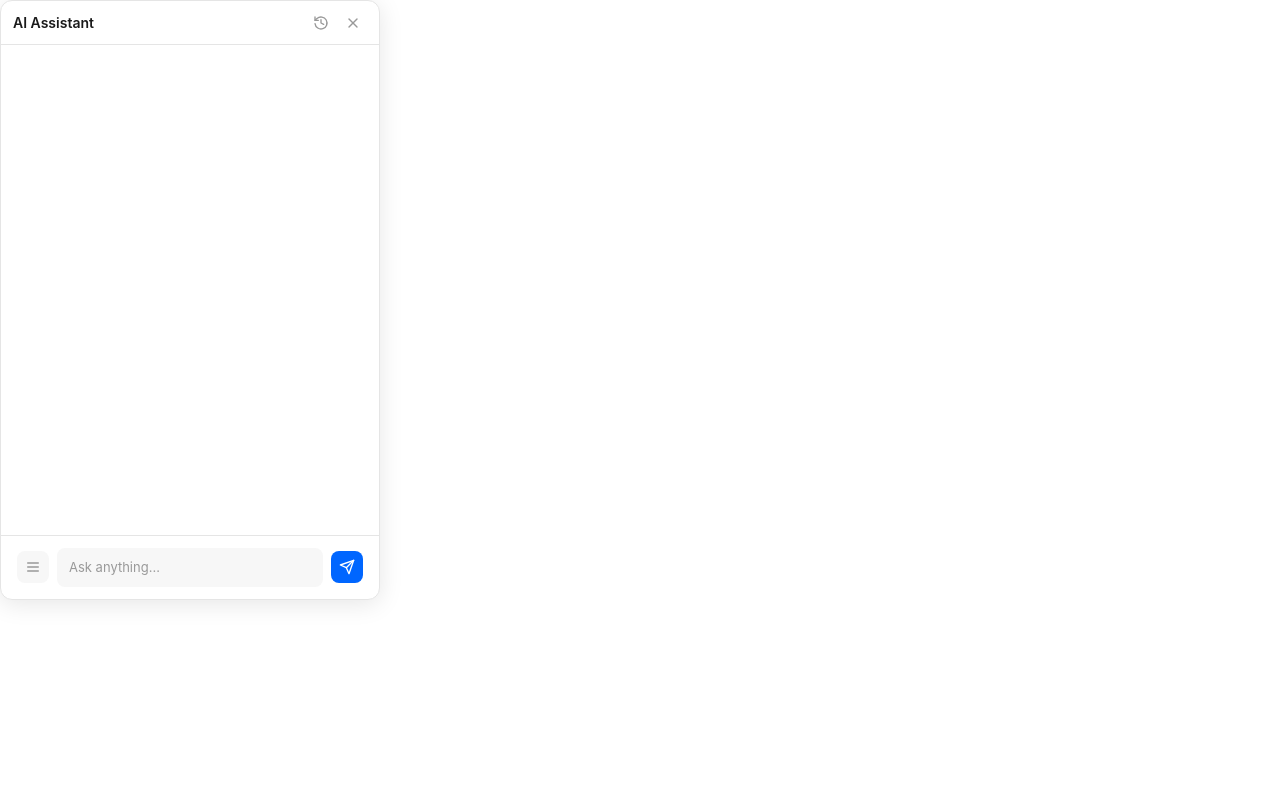
it: AIChatPanel › search › runs search when search tool is selected and message sent
Select search tool
Click the button with class "tool-btn": (33, 567) [17,551,49,583]
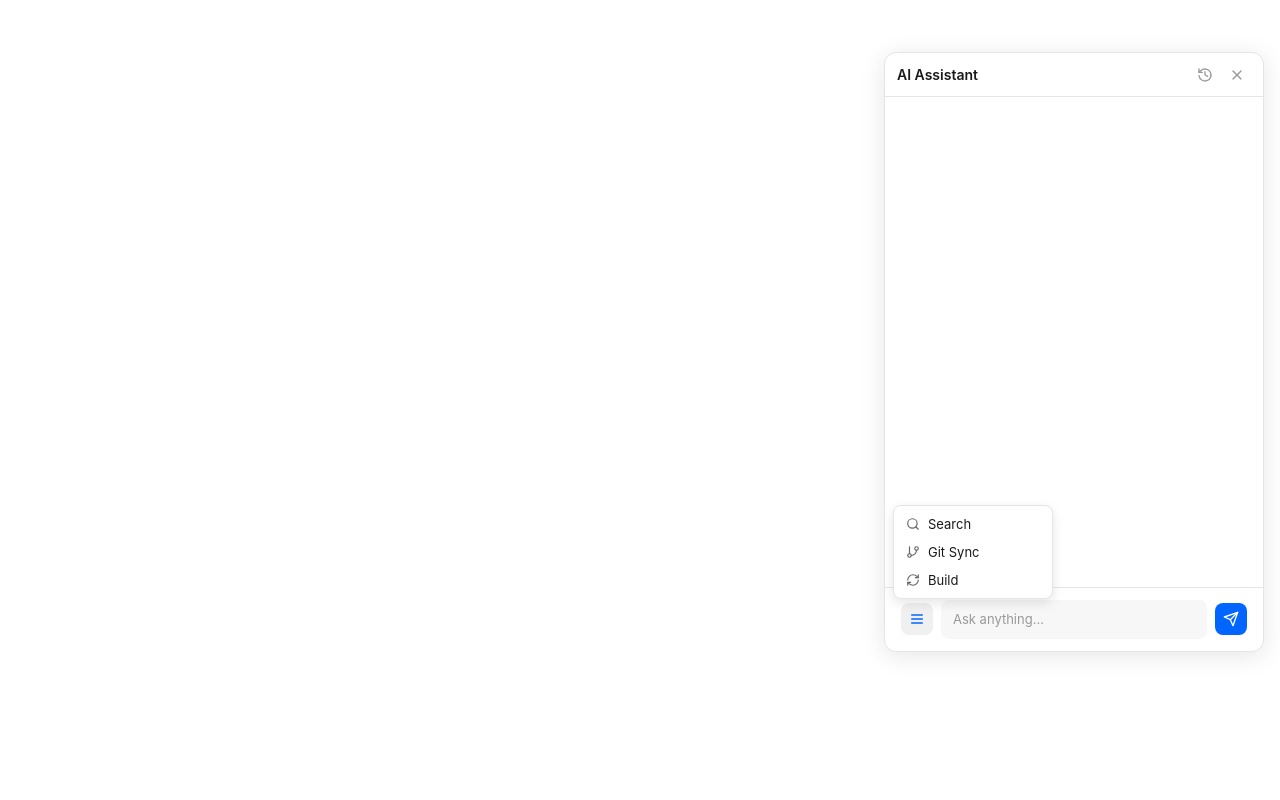
Click the button with class "tool-menu-item" showing "Search": (973, 524) [898,510,1048,538]
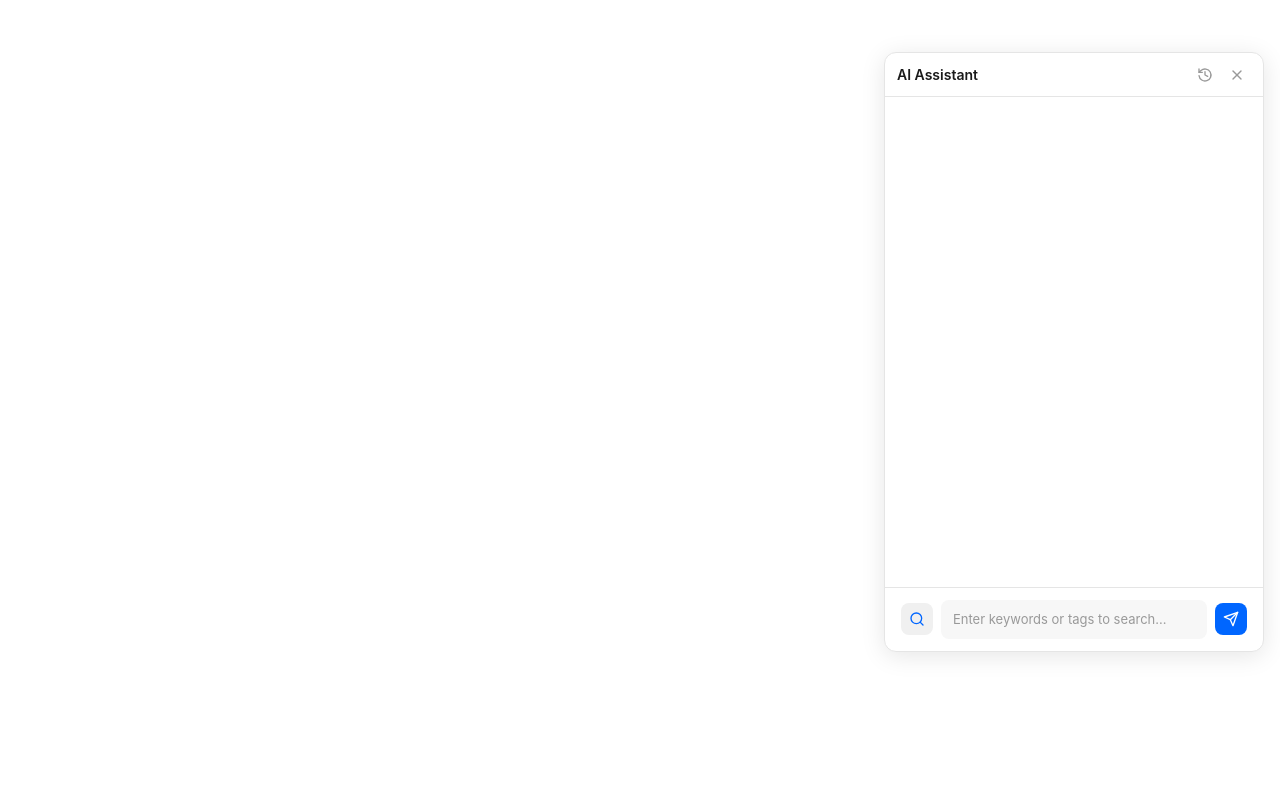
Type search query and send
In the text box with class "chat-input": (1074, 619) [941,600,1207,639], type "golang"
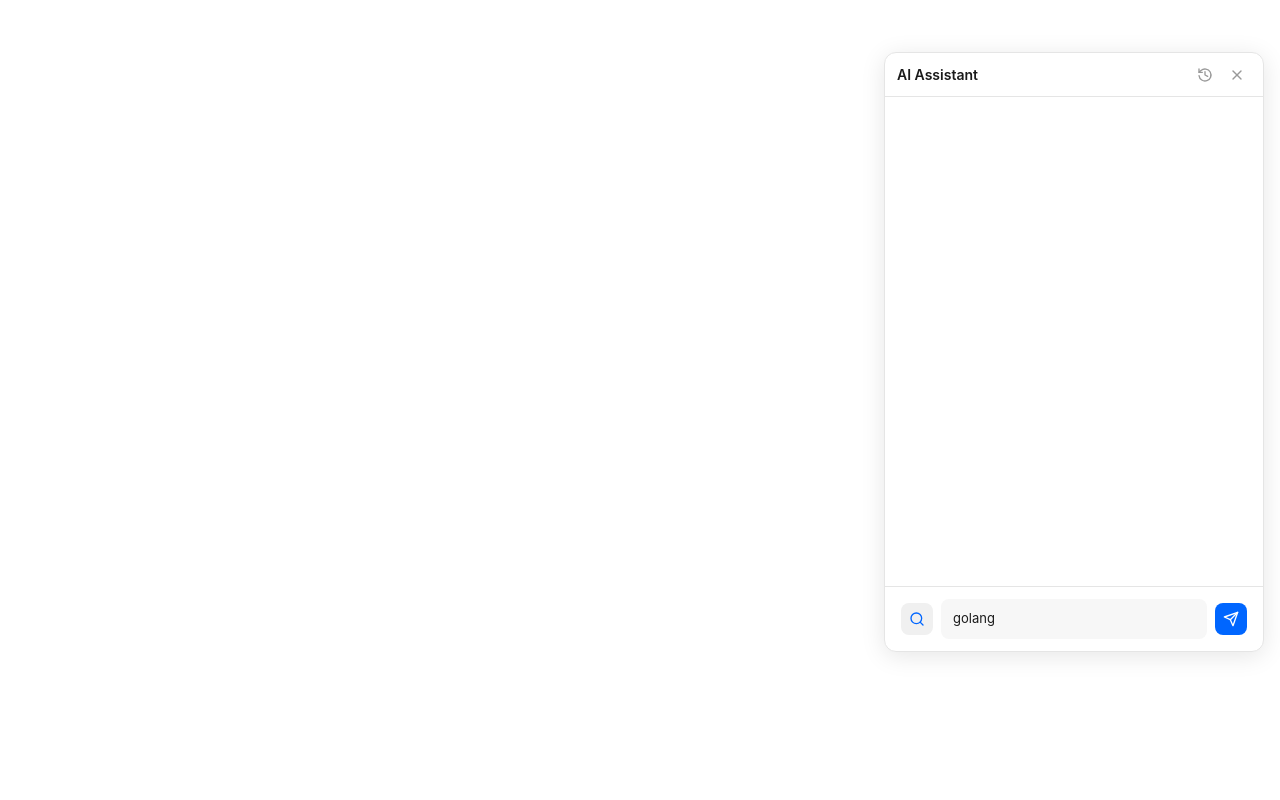
Click the button with class "send-btn": (1231, 619) [1215,603,1247,635]
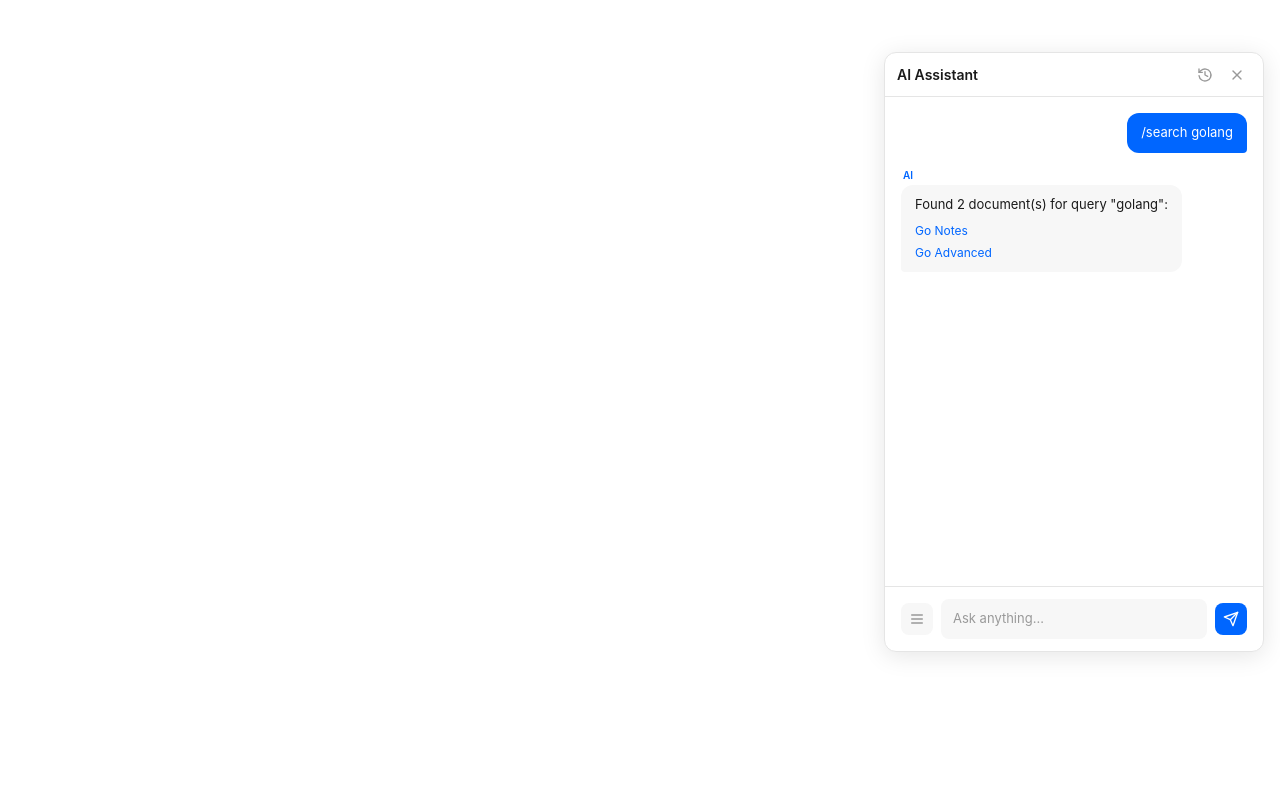
Now the number of elements with class "message" is 2, box [1127,113,1247,152]; [901,168,1182,272]
Now the element with class "bubble" shows "Found 2 document(s)", box [915,196,1168,212]
Now the number of links with class "doc-link" is 2, box [915,223,968,238]; [915,245,992,260]
